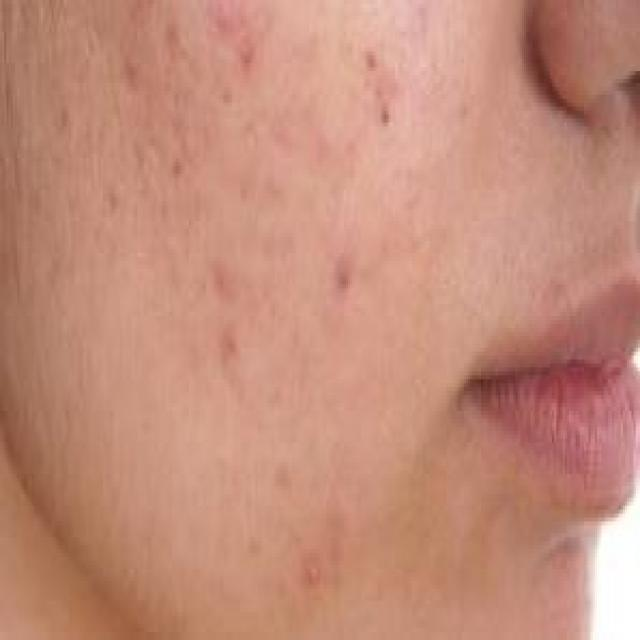blackheads: (217, 320, 234, 371), (210, 253, 230, 296), (333, 245, 350, 292), (163, 12, 180, 51), (238, 40, 254, 67), (305, 557, 322, 581), (380, 103, 393, 134), (101, 190, 120, 210), (275, 454, 286, 482), (58, 99, 69, 126), (365, 44, 374, 75)
